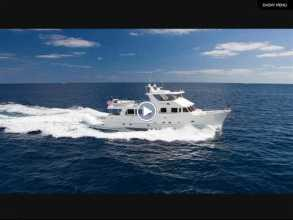yacht: (98, 84, 230, 135)
